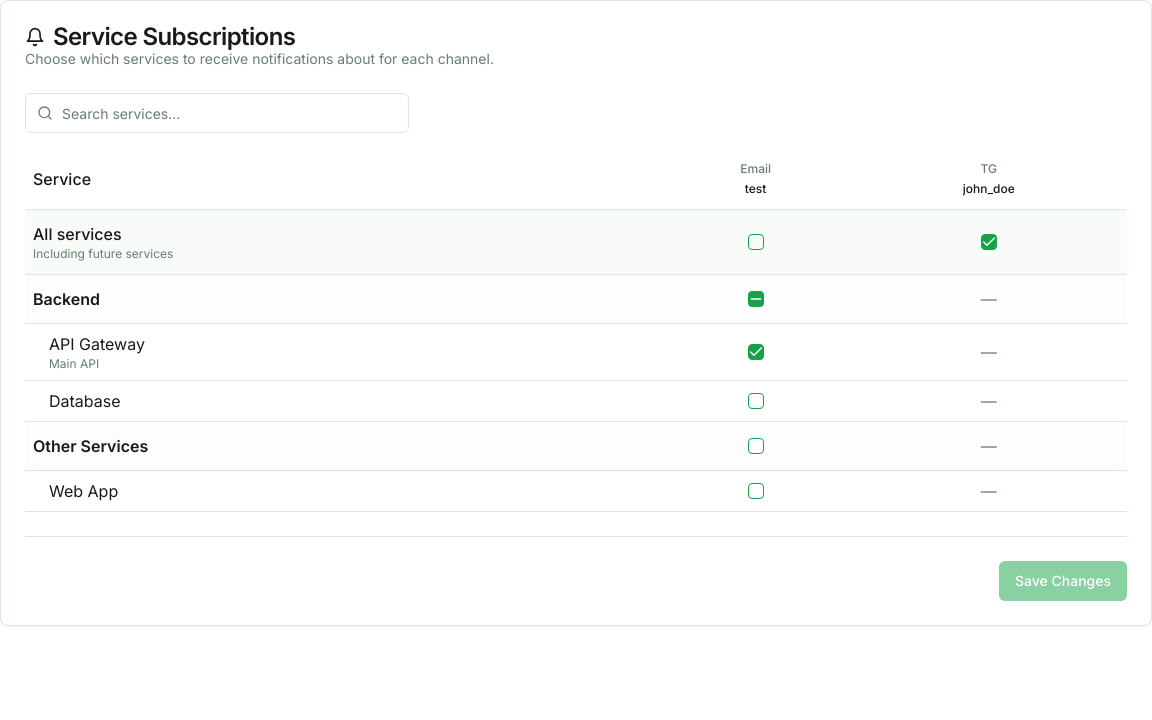
Scenario: SubscriptionEditor › Search › filters services by partial name match
expect the text "API Gateway" is shown: met, box [49, 334, 145, 354]
Type "Gateway" into the field with placeholder "Search services..." at (217, 113), box [25, 93, 409, 133]
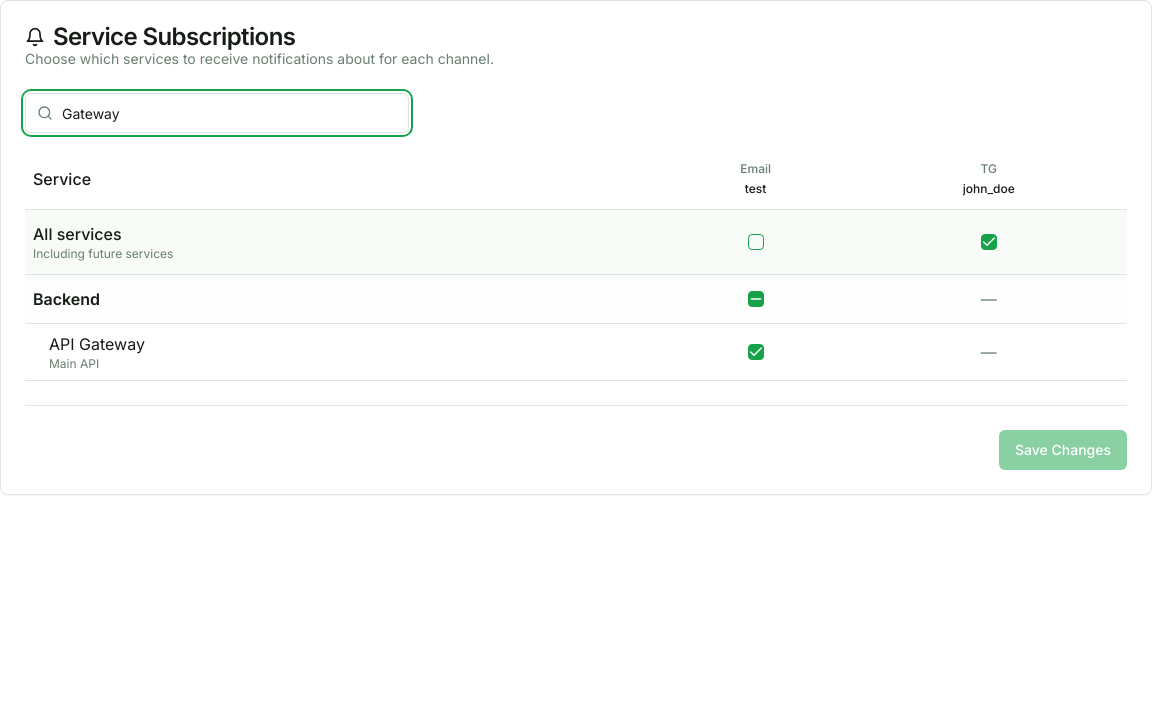
expect the text "API Gateway" is shown: met, box [49, 334, 145, 354]
expect the text "Database" is gone: met
expect the text "Web App" is gone: met
